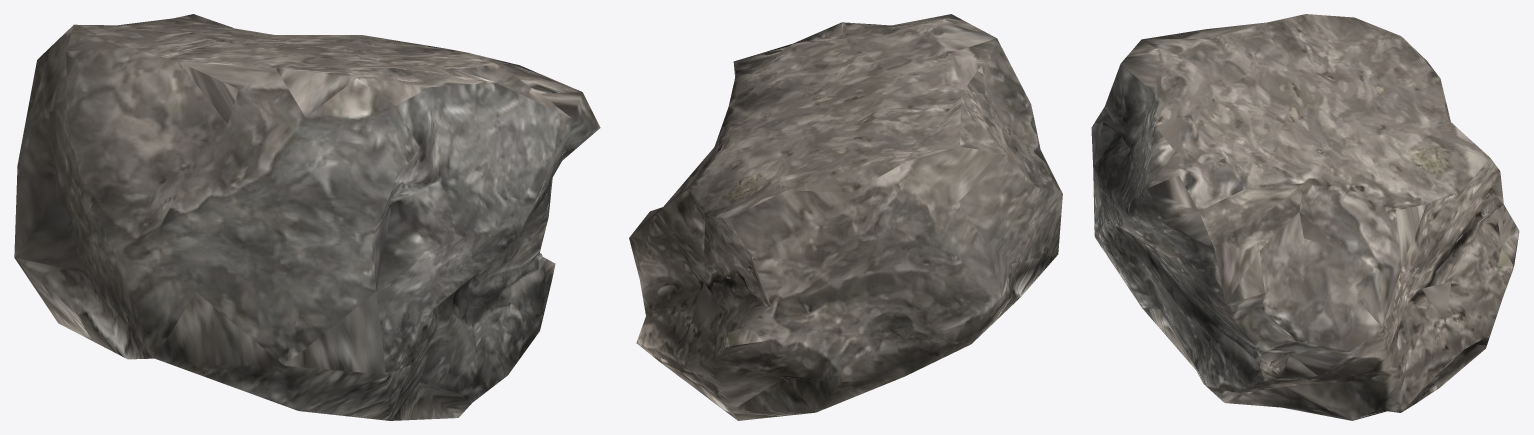
The model's file is boulder_e_lod2.glb.
The picture shows the model from 3 angles, left to right: view 1: azimuth 30°, elevation 25°; view 2: azimuth 150°, elevation 25°; view 3: azimuth 270°, elevation 25°; orthographic projection. The views are drawn at different scales.
Visible parts, largest first — view 1: boulder_e_lod2; view 2: boulder_e_lod2; view 3: boulder_e_lod2.
Boxes of the visible parts, <box> form: boulder_e_lod2: <box>14,14,600,420</box>; boulder_e_lod2: <box>629,14,1062,420</box>; boulder_e_lod2: <box>1091,14,1519,420</box>.
Bounding box in the file's own units: 4.96 × 3.95 × 4.98.
Materials: 1 (1 with a texture image).
